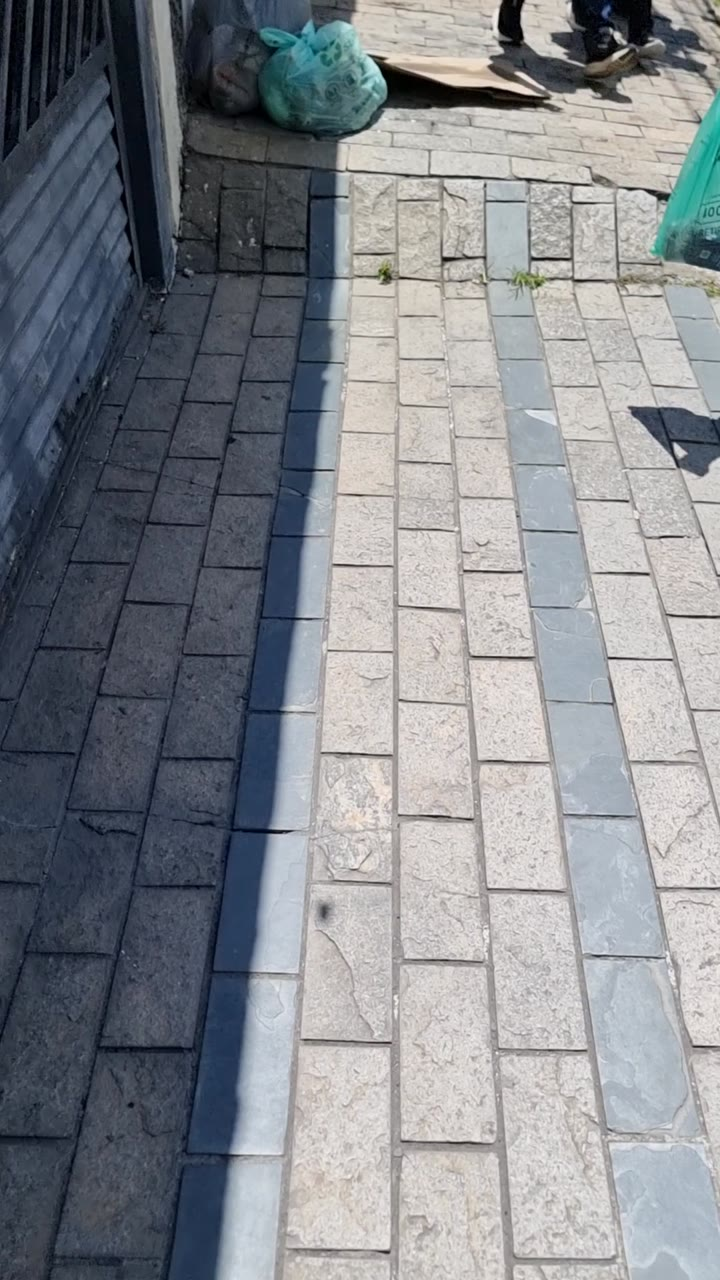obstaculo: (259, 21, 387, 136), (186, 0, 311, 115), (652, 89, 720, 272)
